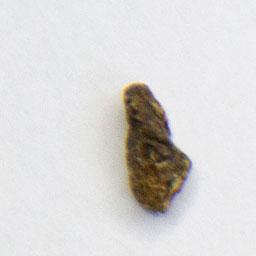defect: (120, 81, 195, 217)
